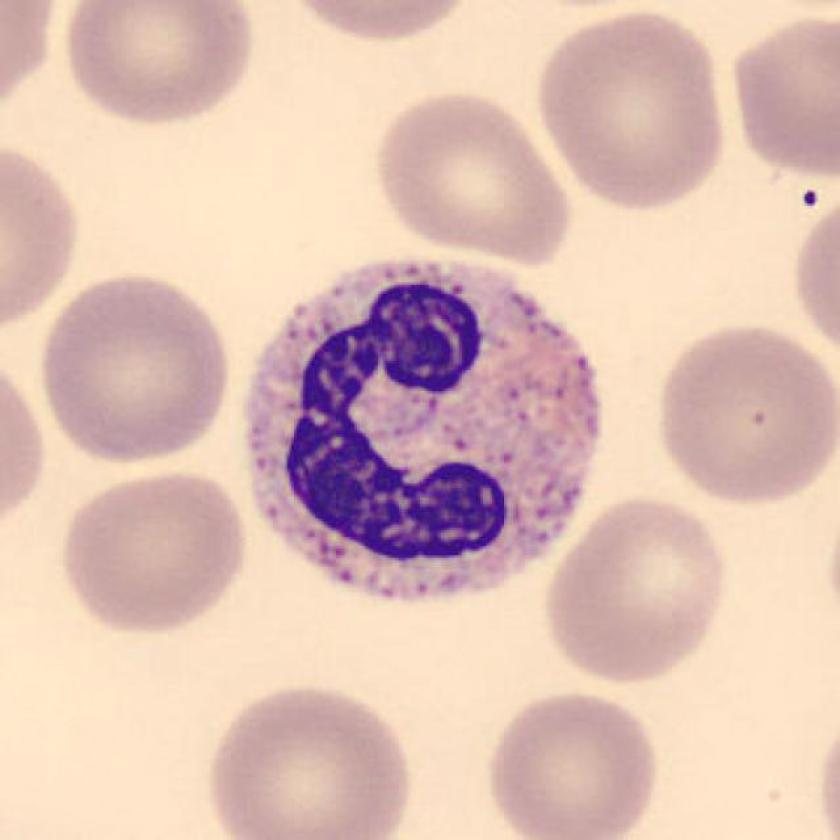neutrophil: (248, 266, 601, 600)
